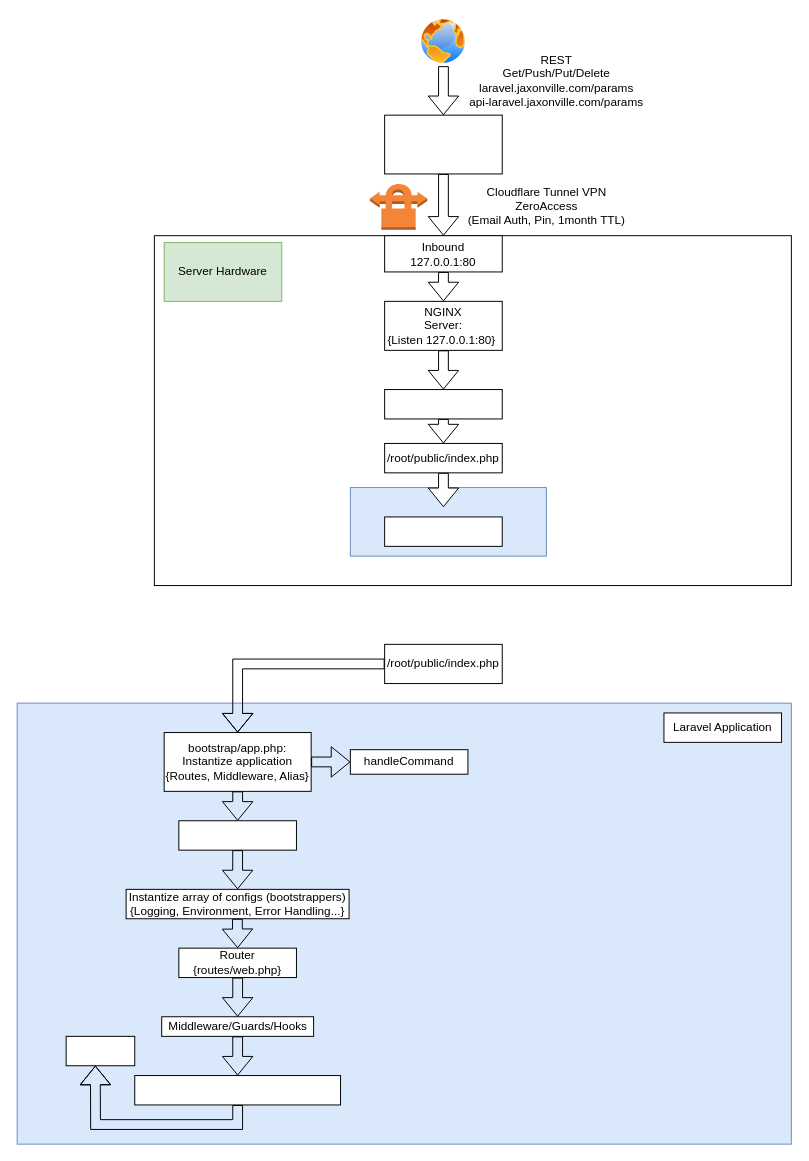
Some shapes in this 809 by 1161 pixel diagram are drawn without their labels. The shapes that lost their labels are listed below. From the top down, each one's centre as x and y in pixels, then its label:
At pixel 443 144: "Cloudflare".
At pixel 443 404: "Laravel Root".
At pixel 443 531: "Application Instantize".
At pixel 237 835: "handleRequest Illuminate\Foundation\Http\Kernel".
At pixel 100 1050: "Return".
At pixel 237 1090: "Controller {/app/http/controllers/controller.php}".
